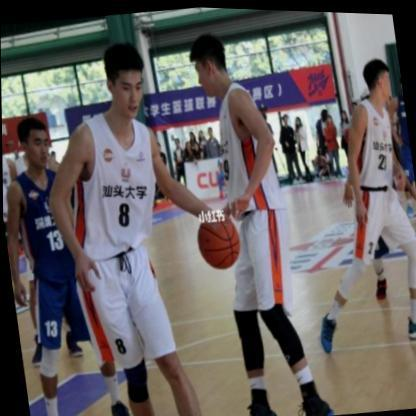basketball: (193, 208, 242, 272)
